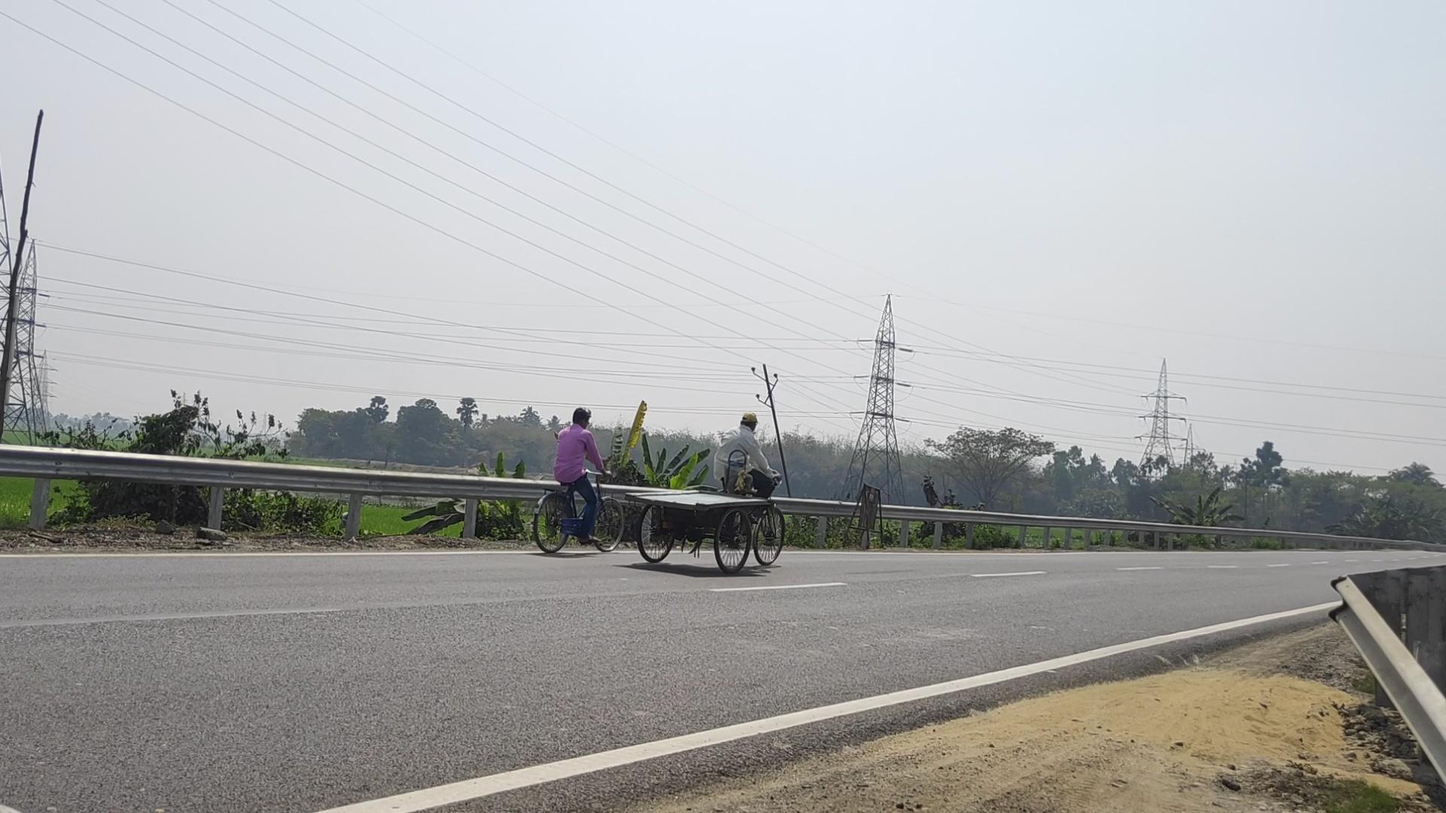bike: (534, 408, 624, 554)
